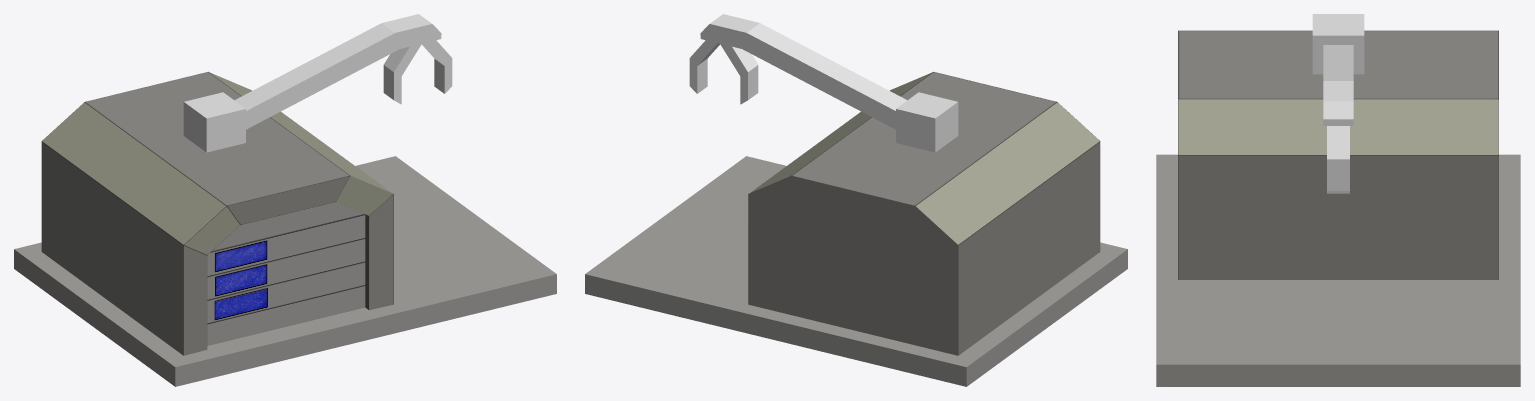
Rendered from vehicle_depot.gltf.
3 views of the same model, side by side, from view 1: azimuth 30°, elevation 25°; view 2: azimuth 150°, elevation 25°; view 3: azimuth 270°, elevation 25° (orthographic). The views are drawn at different scales.
Parts seen in each view (by area): view 1: Garage, Base, GarageDoor, Cube.002, Crane, Cube.003, Cube.004; view 2: Garage, Base, Cube.002, Crane, Cube.003, Cube.004; view 3: Garage, Base, Cube.002, Crane, Cube.004.
Part boxes in pixels (box(x1,y1,x2,y2)): Garage: box(41, 72, 393, 355); Base: box(14, 156, 556, 386); GarageDoor: box(207, 202, 365, 345); Cube.002: box(234, 14, 441, 129); Crane: box(183, 92, 245, 152); Cube.003: box(383, 43, 421, 104); Cube.004: box(422, 40, 452, 93); Garage: box(748, 72, 1100, 355); Base: box(585, 156, 1127, 386); Cube.002: box(700, 14, 907, 129); Crane: box(896, 92, 958, 152); Cube.003: box(720, 43, 758, 104); Cube.004: box(689, 40, 719, 93); Garage: box(1178, 30, 1498, 279); Base: box(1156, 154, 1520, 386); Cube.002: box(1323, 45, 1353, 125); Crane: box(1312, 14, 1364, 74); Cube.004: box(1327, 126, 1349, 193).
Bounding box in the file's own units: 60.25 × 34.44 × 44.12.
3 materials, 3 textured.
